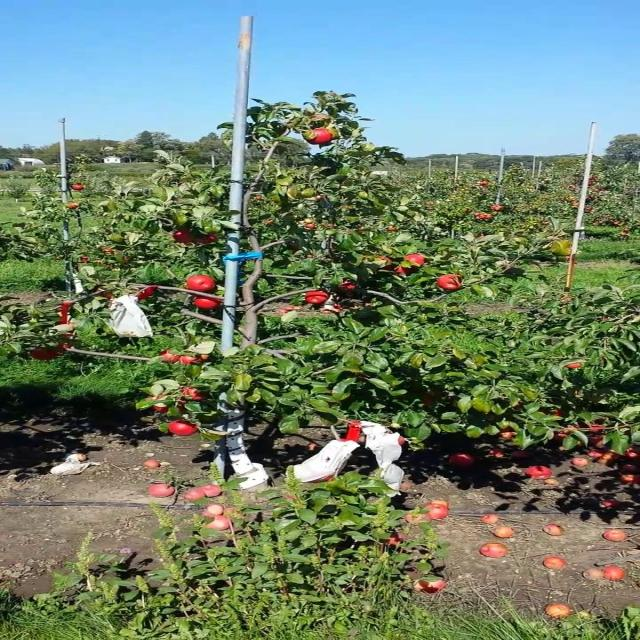apple: (148, 396, 188, 415), (191, 276, 217, 292), (177, 356, 212, 367), (312, 128, 334, 145), (440, 276, 462, 292), (170, 424, 199, 436), (184, 388, 208, 401), (198, 296, 220, 310), (305, 292, 329, 304), (554, 428, 578, 440), (35, 348, 57, 360), (376, 256, 393, 271), (305, 476, 334, 484), (404, 256, 427, 265), (163, 352, 180, 364), (540, 408, 564, 416), (177, 232, 192, 244), (504, 428, 519, 440), (141, 288, 156, 300), (589, 436, 604, 448), (589, 436, 604, 448), (340, 280, 356, 291), (198, 236, 219, 244), (397, 268, 416, 276), (589, 424, 604, 432), (56, 344, 71, 352), (99, 292, 114, 299), (397, 436, 405, 447), (568, 364, 583, 368), (426, 400, 434, 406)
